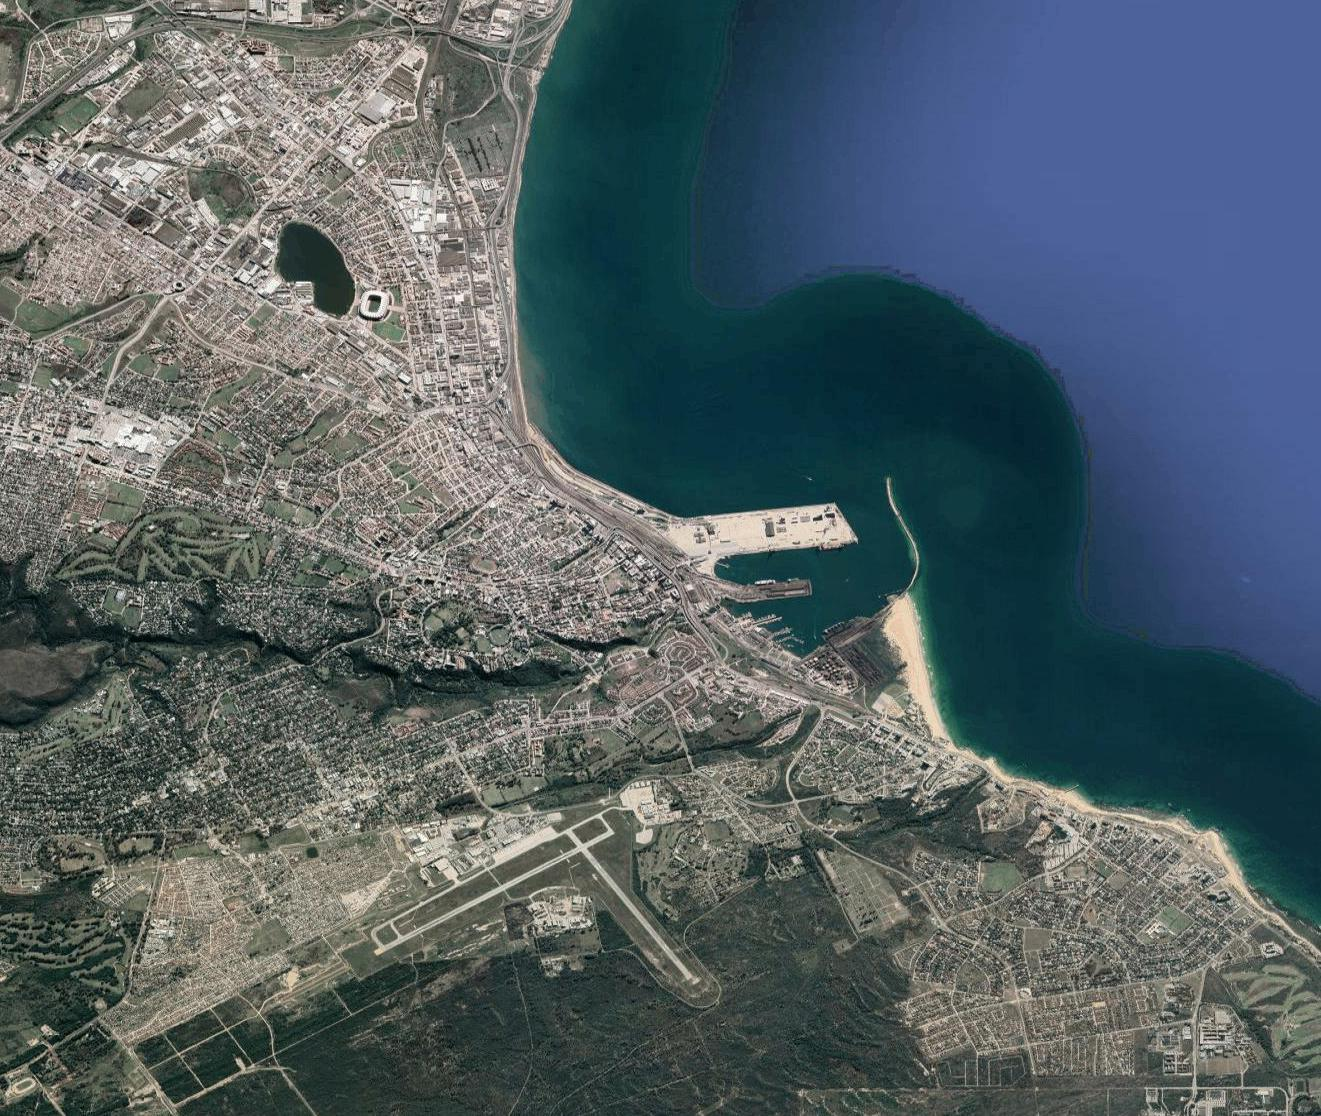airport: (364, 804, 702, 1002)
harbor: (691, 464, 927, 690)
motorway: (83, 18, 184, 72), (1, 72, 79, 141), (186, 14, 333, 50), (336, 20, 500, 46), (565, 493, 640, 548), (516, 433, 564, 494), (484, 203, 507, 289), (504, 118, 527, 204), (499, 31, 522, 117), (491, 378, 519, 434), (499, 293, 517, 382)
train_station: (647, 539, 689, 590)
